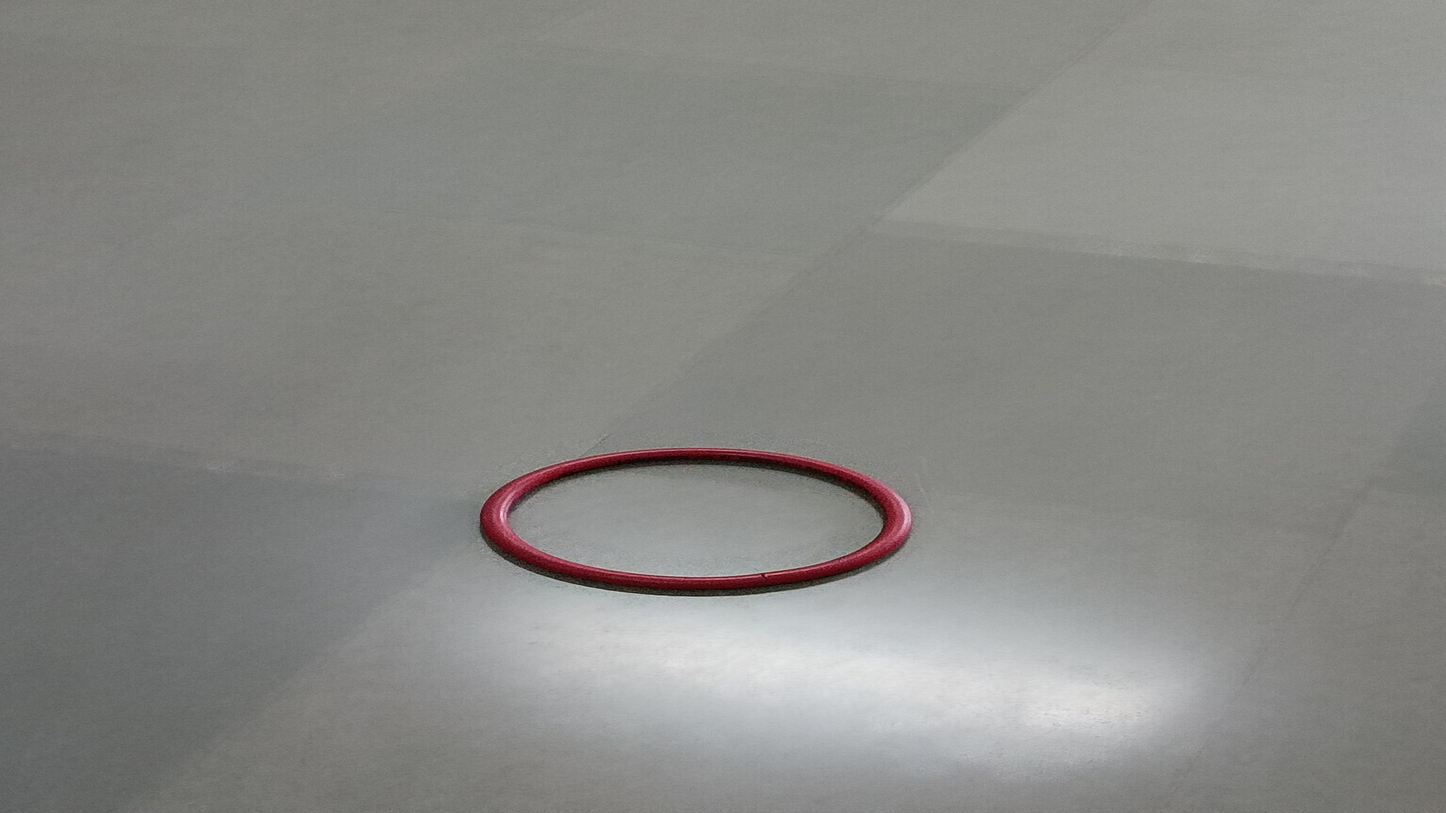Red ring: (480, 449, 915, 593)
